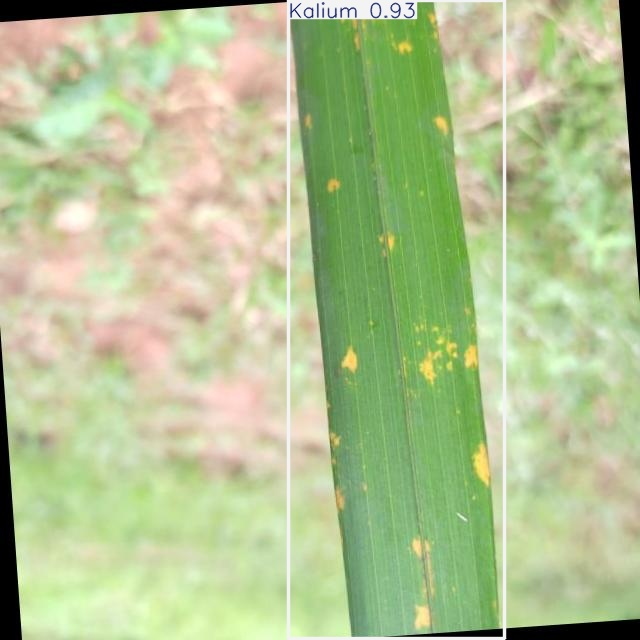Kalium: (289, 0, 504, 639)
